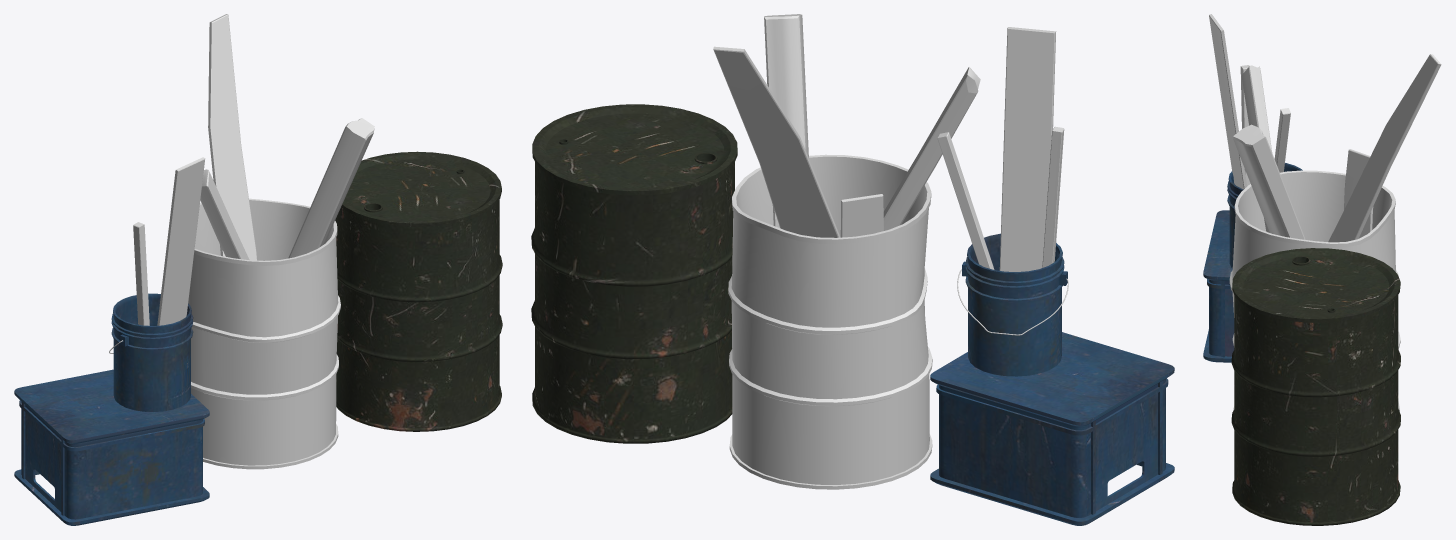
File: BarrelsB.fbx
The picture shows the model from 3 angles, left to right: view 1: azimuth 30°, elevation 25°; view 2: azimuth 150°, elevation 25°; view 3: azimuth 270°, elevation 25°; orthographic projection. The views are drawn at different scales.
Visible parts, largest first — view 1: BarrelsB; view 2: BarrelsB; view 3: BarrelsB.
Part boxes in pixels (box(x1,y1,x2,y2)): BarrelsB: box(14, 14, 502, 525); BarrelsB: box(531, 14, 1174, 525); BarrelsB: box(1203, 14, 1441, 525).
Bounding box in the file's own units: 1.64 × 1.22 × 0.7204.
